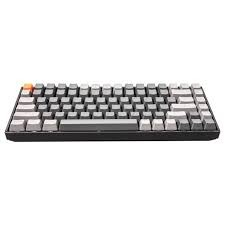keyboard: (3, 70, 225, 145)
